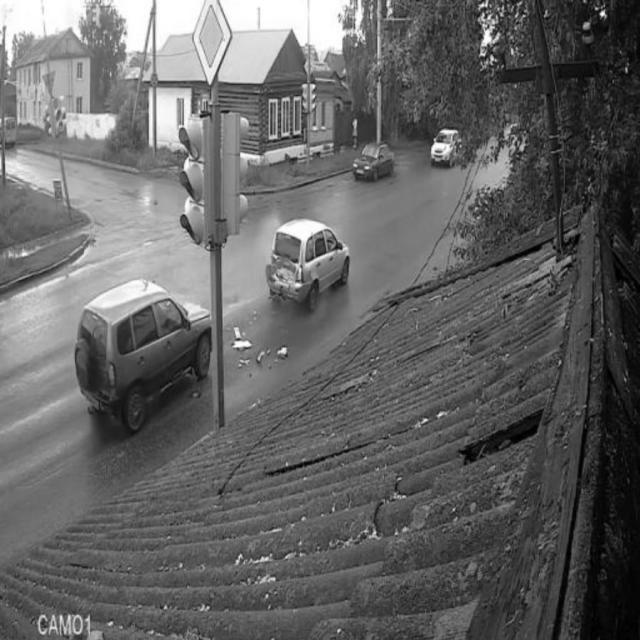vehicle: (76, 274, 213, 431), (264, 213, 352, 305), (349, 140, 397, 187), (429, 125, 465, 165), (0, 112, 18, 147)
